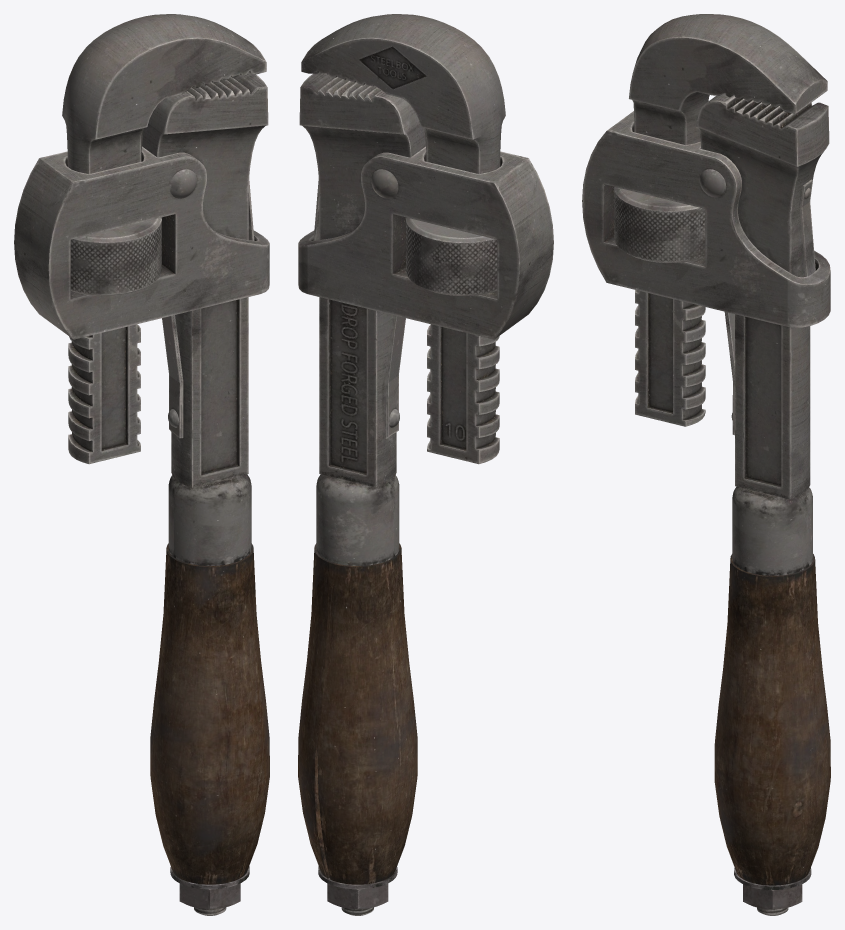
File: prop-wrench-adjustable.glb
The picture shows the model from 3 angles, left to right: view 1: azimuth 30°, elevation 25°; view 2: azimuth 150°, elevation 25°; view 3: azimuth 330°, elevation 25°; orthographic projection. The views are drawn at different scales.
Visible parts, largest first — view 1: adjustable_wrench, adjustable_wrench_jaw, adjustable_wrench_nut; view 2: adjustable_wrench, adjustable_wrench_jaw, adjustable_wrench_nut; view 3: adjustable_wrench, adjustable_wrench_jaw, adjustable_wrench_nut.
Boxes of the visible parts, box(x1,y1,x2,y2) form: adjustable_wrench: box(14, 72, 269, 915); adjustable_wrench_jaw: box(62, 14, 266, 464); adjustable_wrench_nut: box(70, 217, 161, 295); adjustable_wrench: box(298, 72, 553, 915); adjustable_wrench_jaw: box(301, 14, 505, 464); adjustable_wrench_nut: box(406, 217, 497, 295); adjustable_wrench: box(582, 93, 830, 915); adjustable_wrench_jaw: box(629, 14, 827, 426); adjustable_wrench_nut: box(614, 187, 705, 262).
Bounding box in the file's own units: 0.0683 × 0.2541 × 0.0306.
1 material, 1 textured.
